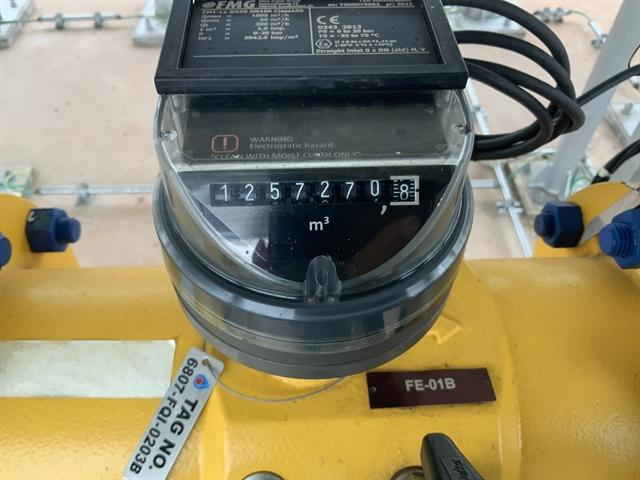analog_dial: (209, 172, 422, 217)
